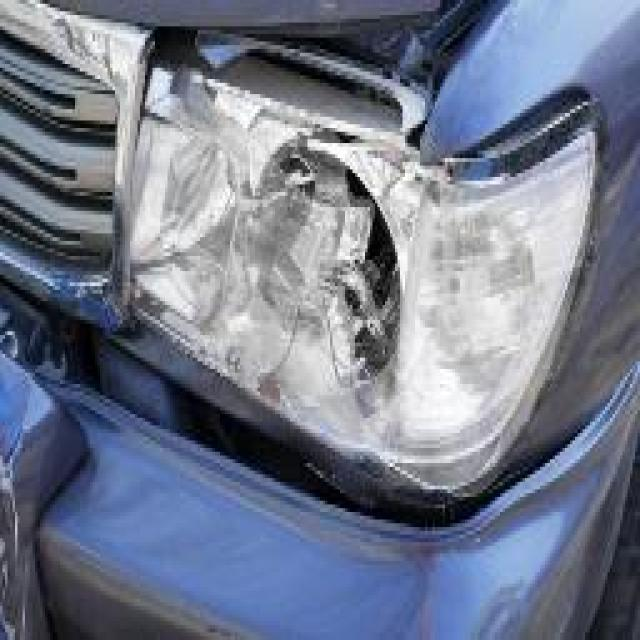Bumper: (0, 358, 640, 640)
Light: (115, 41, 570, 493)
